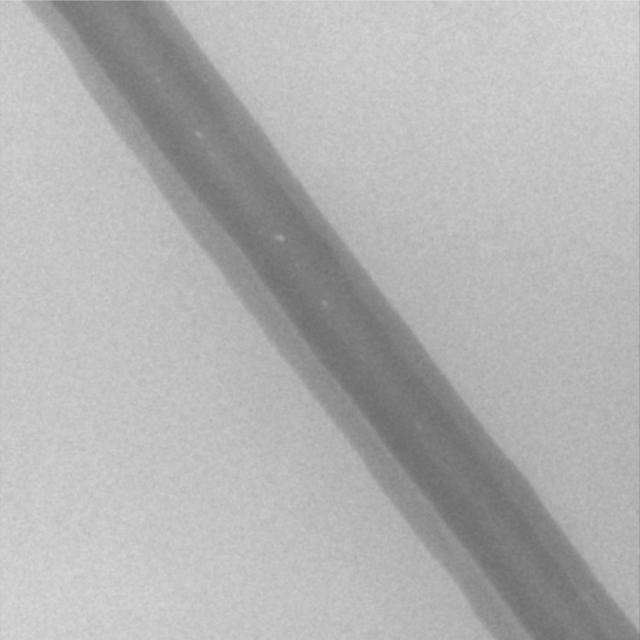air hole: (274, 232, 285, 242), (193, 129, 204, 139), (320, 298, 328, 307)
